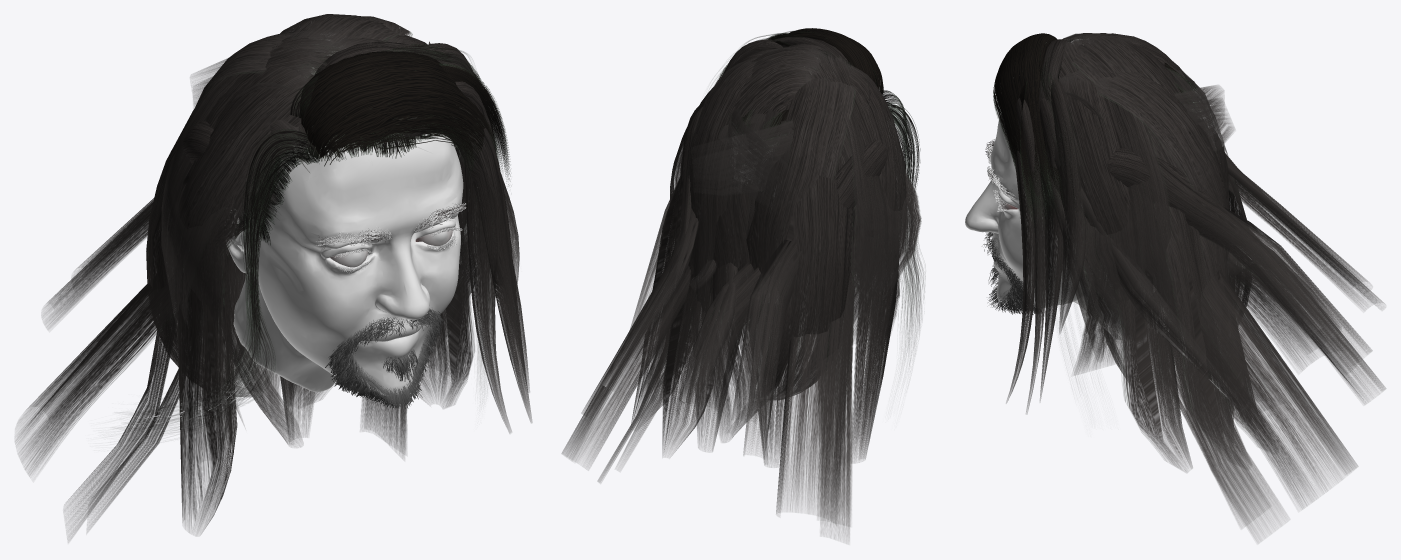
Rendered from HeadDefDISPPAChov2.gltf.
3 renders of one model, left to right at view 1: azimuth 30°, elevation 25°; view 2: azimuth 150°, elevation 25°; view 3: azimuth 270°, elevation 25°, orthographic. The views are drawn at different scales.
Parts seen in each view (by area): view 1: NurbsPath.011, Head2.001, NurbsPath.031, NurbsPath, NurbsPath.027, Bebar, NurbsPath.001, NurbsPath.004, Broaux; view 2: NurbsPath.011, NurbsPath.004, NurbsPath.027, NurbsPath.031, NurbsPath; view 3: NurbsPath.011, NurbsPath, NurbsPath.031, Head2.001, NurbsPath.004, Bebar.
Boxes of the visible parts, left/top/right/bottom form: NurbsPath.011: left=15, top=14, right=476, bottom=542; Head2.001: left=226, top=40, right=463, bottom=395; NurbsPath.031: left=265, top=44, right=510, bottom=389; NurbsPath: left=389, top=43, right=532, bottom=433; NurbsPath.027: left=125, top=45, right=478, bottom=431; Bebar: left=325, top=308, right=443, bottom=408; NurbsPath.001: left=259, top=68, right=462, bottom=245; NurbsPath.004: left=190, top=30, right=459, bottom=221; Broaux: left=316, top=202, right=466, bottom=248; NurbsPath.011: left=561, top=37, right=921, bottom=543; NurbsPath.004: left=692, top=99, right=819, bottom=244; NurbsPath.027: left=716, top=30, right=925, bottom=365; NurbsPath.031: left=719, top=28, right=883, bottom=94; NurbsPath: left=723, top=39, right=782, bottom=74; NurbsPath.011: left=1036, top=33, right=1385, bottom=543; NurbsPath: left=1006, top=76, right=1085, bottom=413; NurbsPath.031: left=993, top=33, right=1087, bottom=357; Head2.001: left=965, top=113, right=1125, bottom=340; NurbsPath.004: left=1162, top=62, right=1234, bottom=167; Bebar: left=983, top=232, right=1041, bottom=314.
Size of the model in its own units: 5.79 by 8.16 by 6.88.
Materials: 4 (3 with a texture image).
